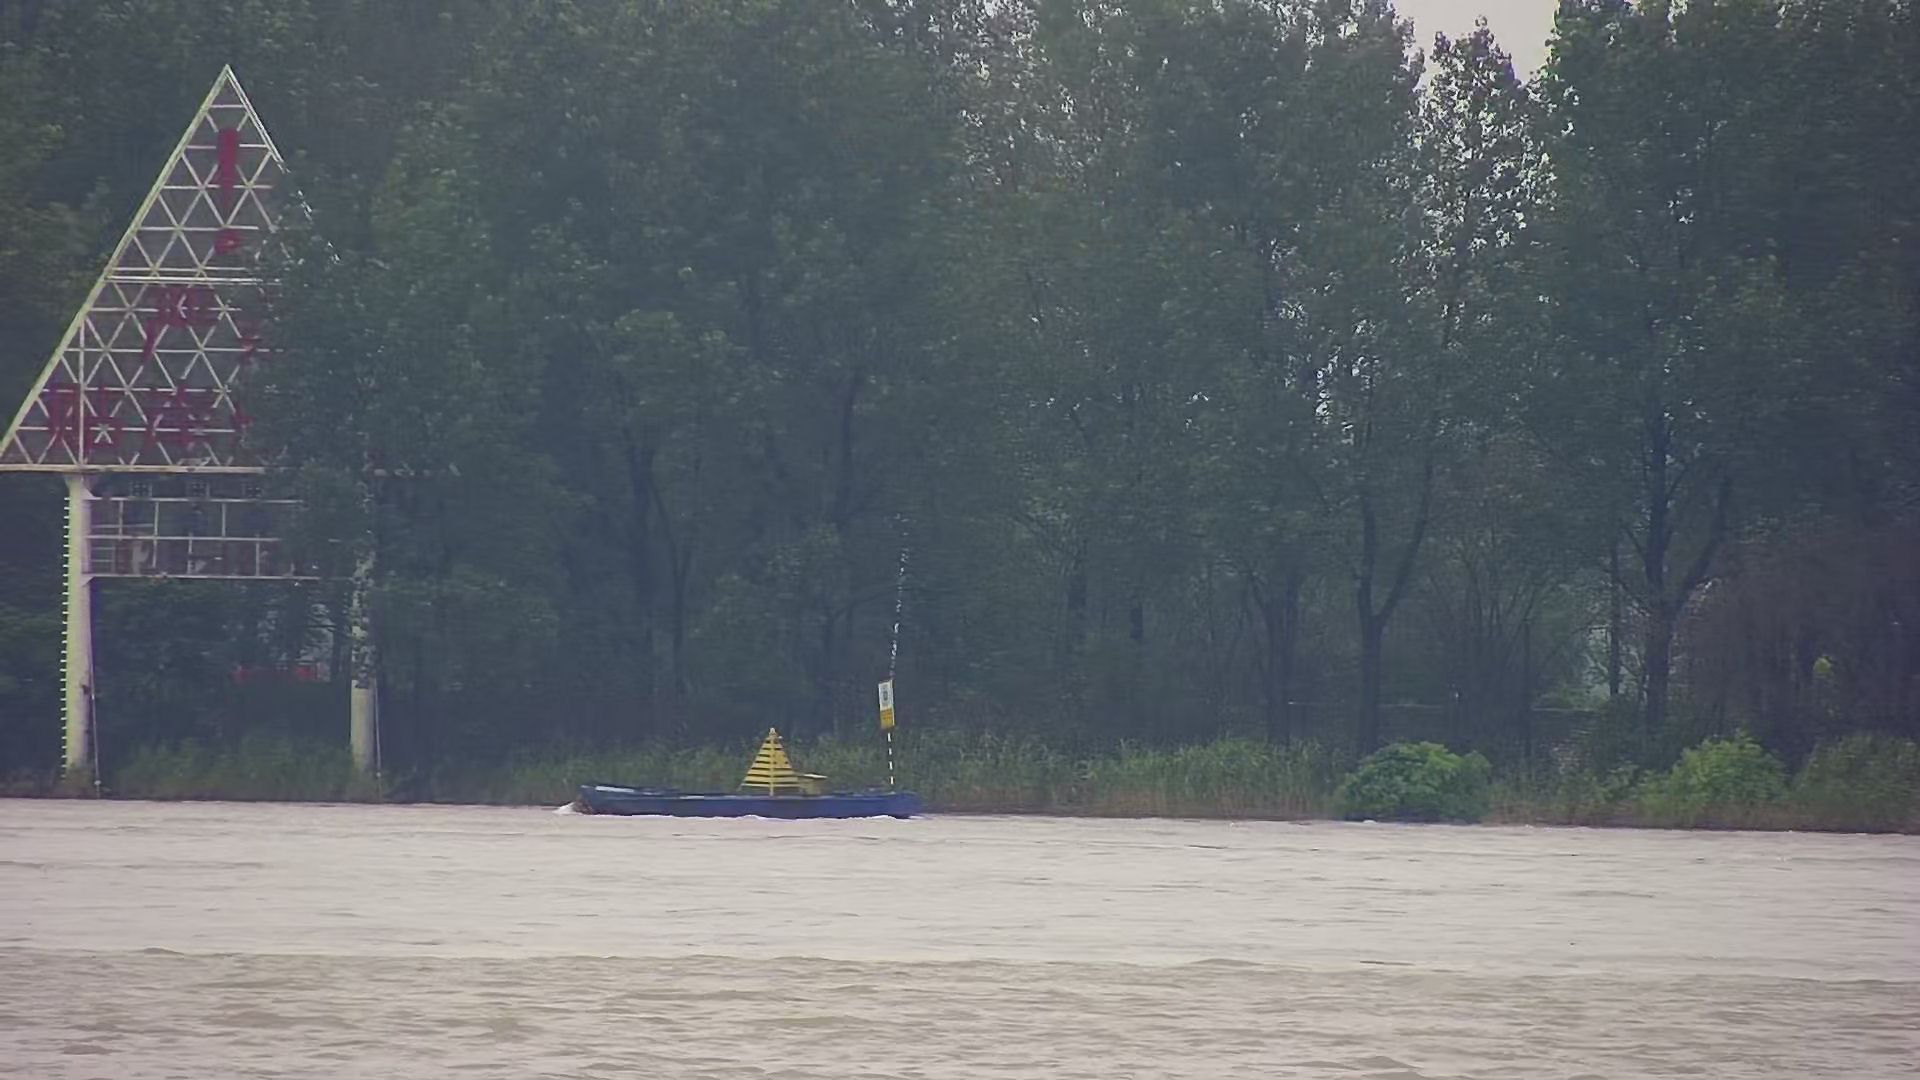boat: (560, 720, 928, 822)
